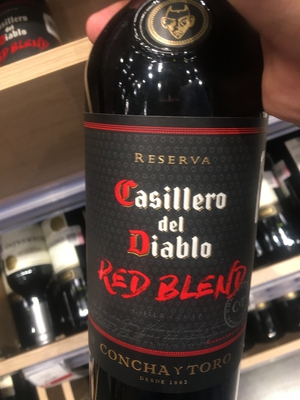casillero del diablo red blend: (69, 5, 268, 396)
